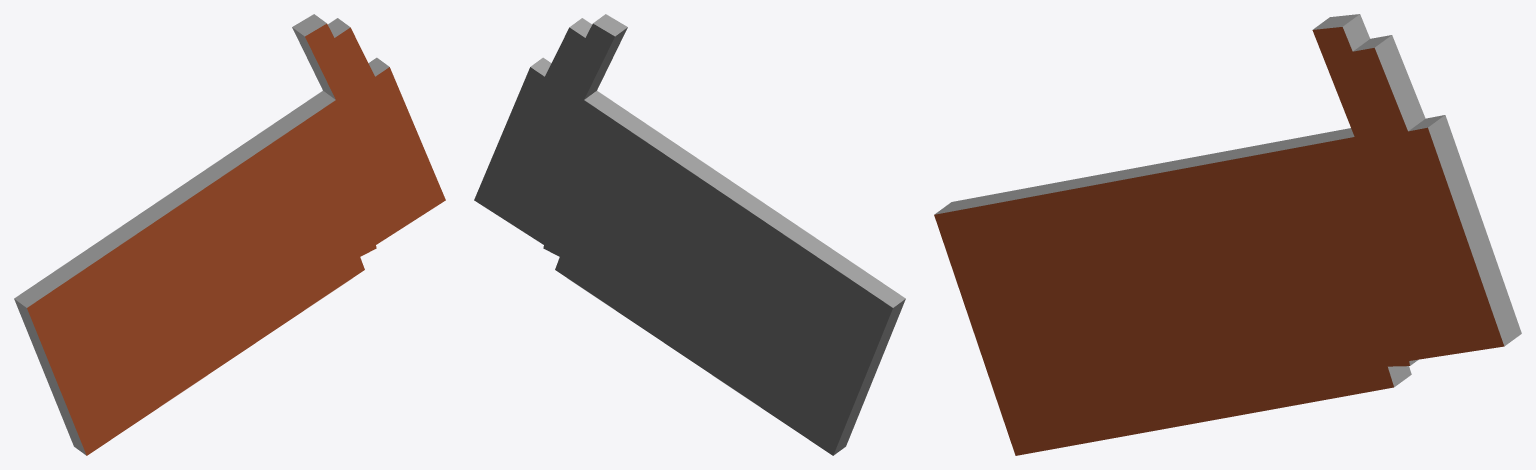
Rendered from construction_0122_assumed_A_Grande_construcao_h6m.obj.
3 renders of one model, left to right at view 1: azimuth 30°, elevation 25°; view 2: azimuth 150°, elevation 25°; view 3: azimuth 330°, elevation 25°, orthographic. The views are drawn at different scales.
Visible parts, largest first — view 1: construction_0122_assumed_A_Grande_construcao; view 2: construction_0122_assumed_A_Grande_construcao; view 3: construction_0122_assumed_A_Grande_construcao.
Part boxes in pixels (bbox=[...]): construction_0122_assumed_A_Grande_construcao: bbox=[14, 14, 445, 455]; construction_0122_assumed_A_Grande_construcao: bbox=[474, 14, 905, 455]; construction_0122_assumed_A_Grande_construcao: bbox=[934, 14, 1521, 455].
Bounding box in the file's own units: 113 × 96.1 × 6.
